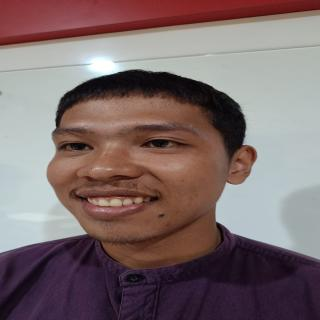Senang: (41, 98, 238, 246)
